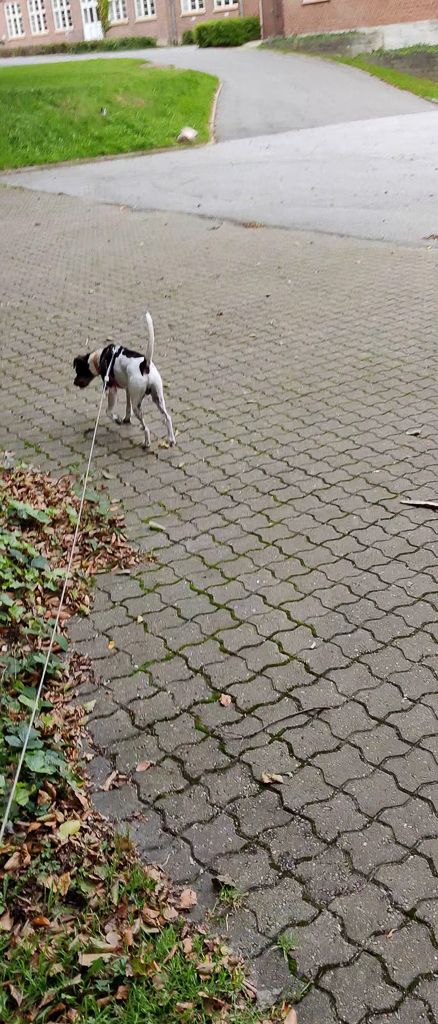Dog: (67, 310, 187, 455)
